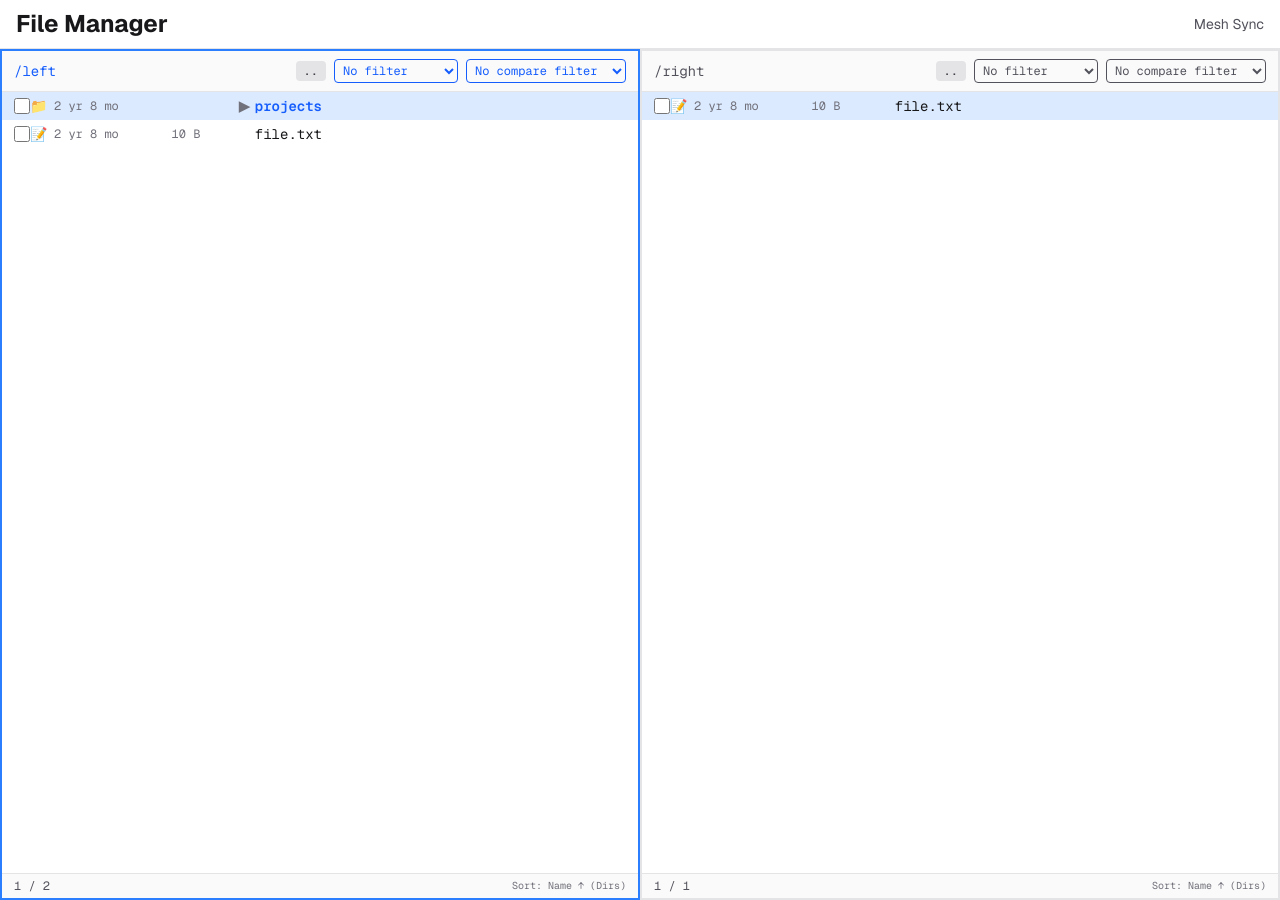
it: WorkspaceView set base directory [SET_BASE_DIRECTORY] › applies In all other panes from initiating pane only
Expected: the element with test id "pane-0" is shown, [0,49,640,899]
Right-click the text "projects": (320,106) [2,92,638,120]
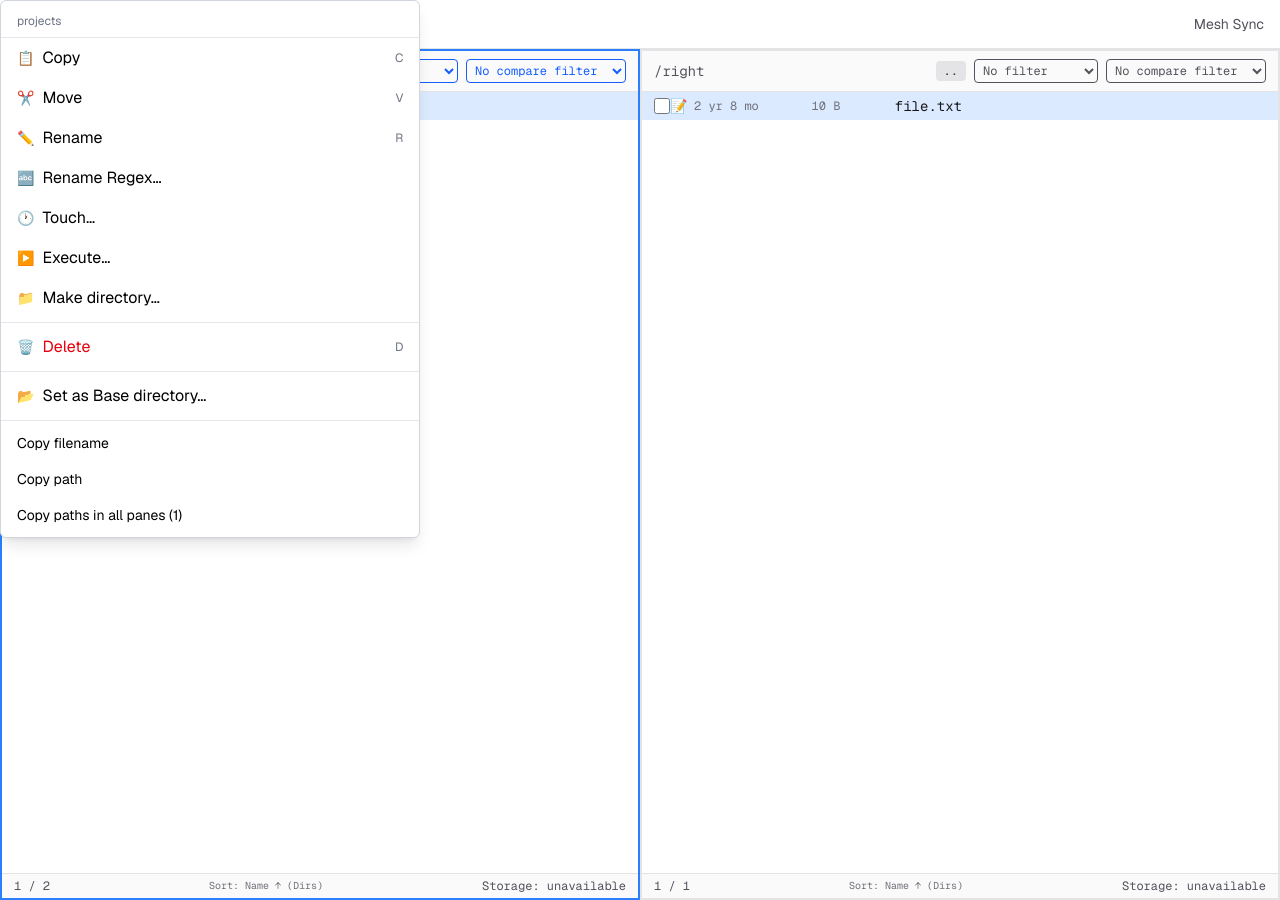
Click the menu item with test id "set-base-directory-menu-item": (124,396) [1,376,419,416]
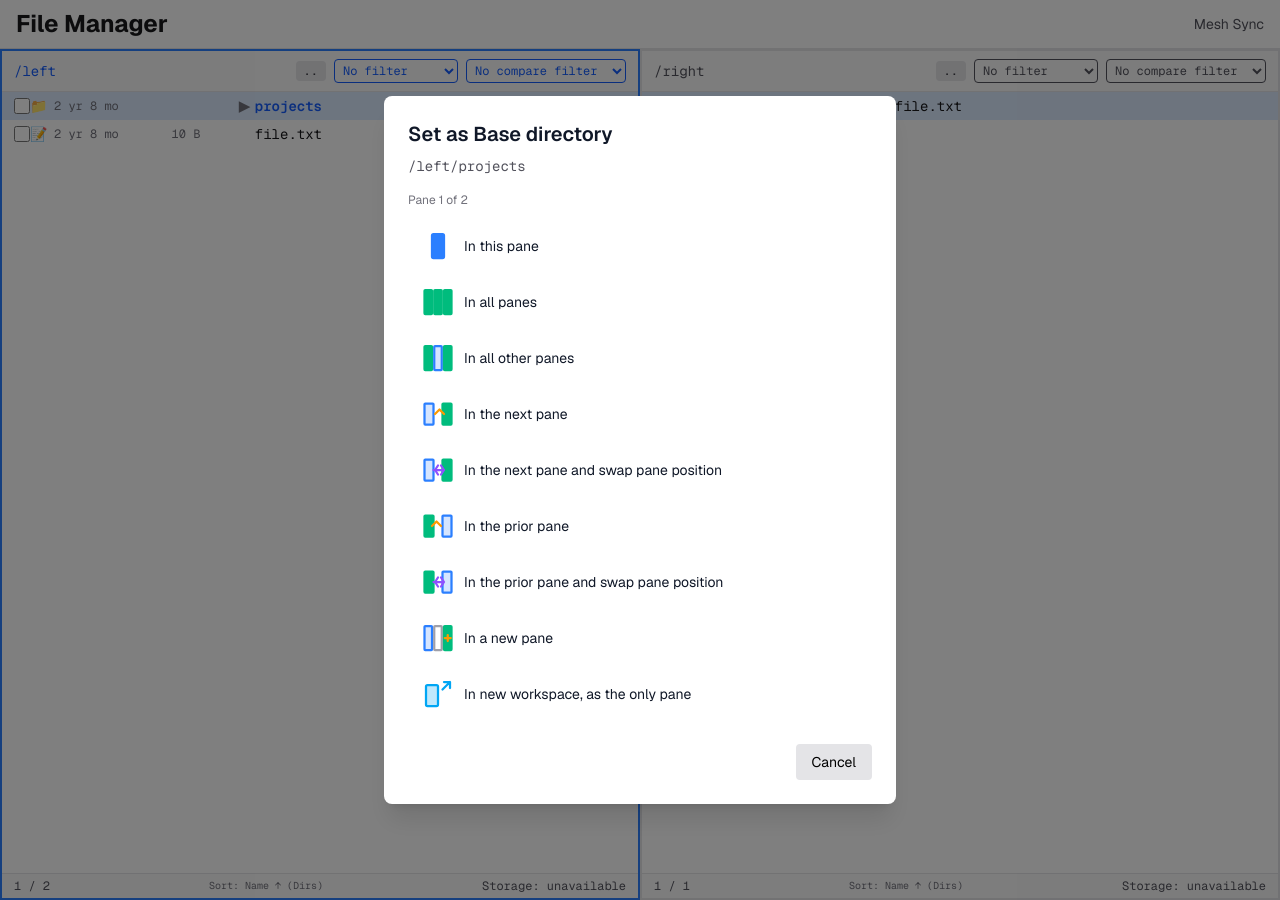
Now the dialog with test id "set-base-directory-dialog" is shown, box [384,96,896,804]
Click the button with test id "set-base-in-other-panes": (438,358) [408,332,872,384]
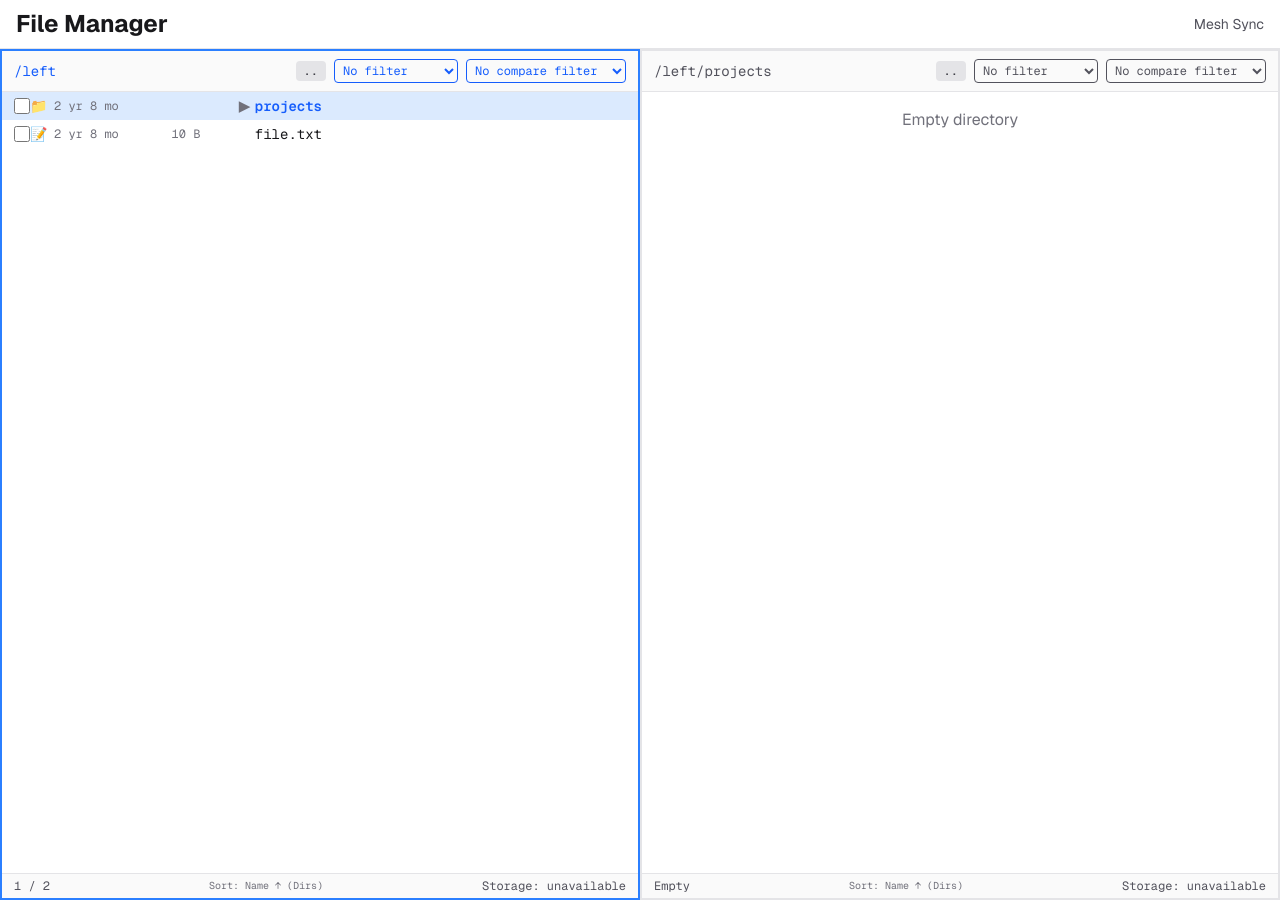
Expected: the element with test id "pane-0" shows "/left", [14,62,56,80]
Now the dialog with test id "set-base-directory-dialog" is gone
Now the element with test id "pane-1" shows "/left/projects", box [654,62,772,80]
